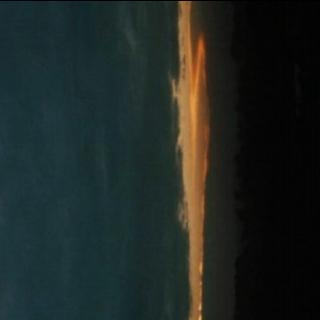Stratocumulus: (0, 0, 222, 320)
